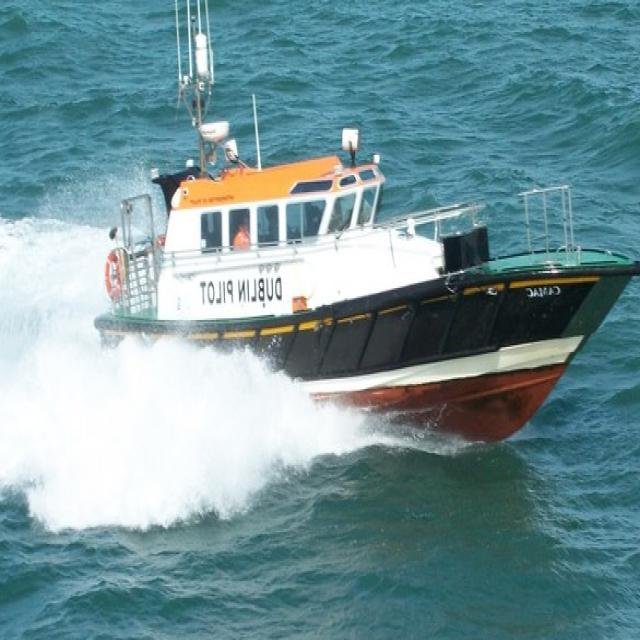houseboat: (90, 0, 640, 460)
